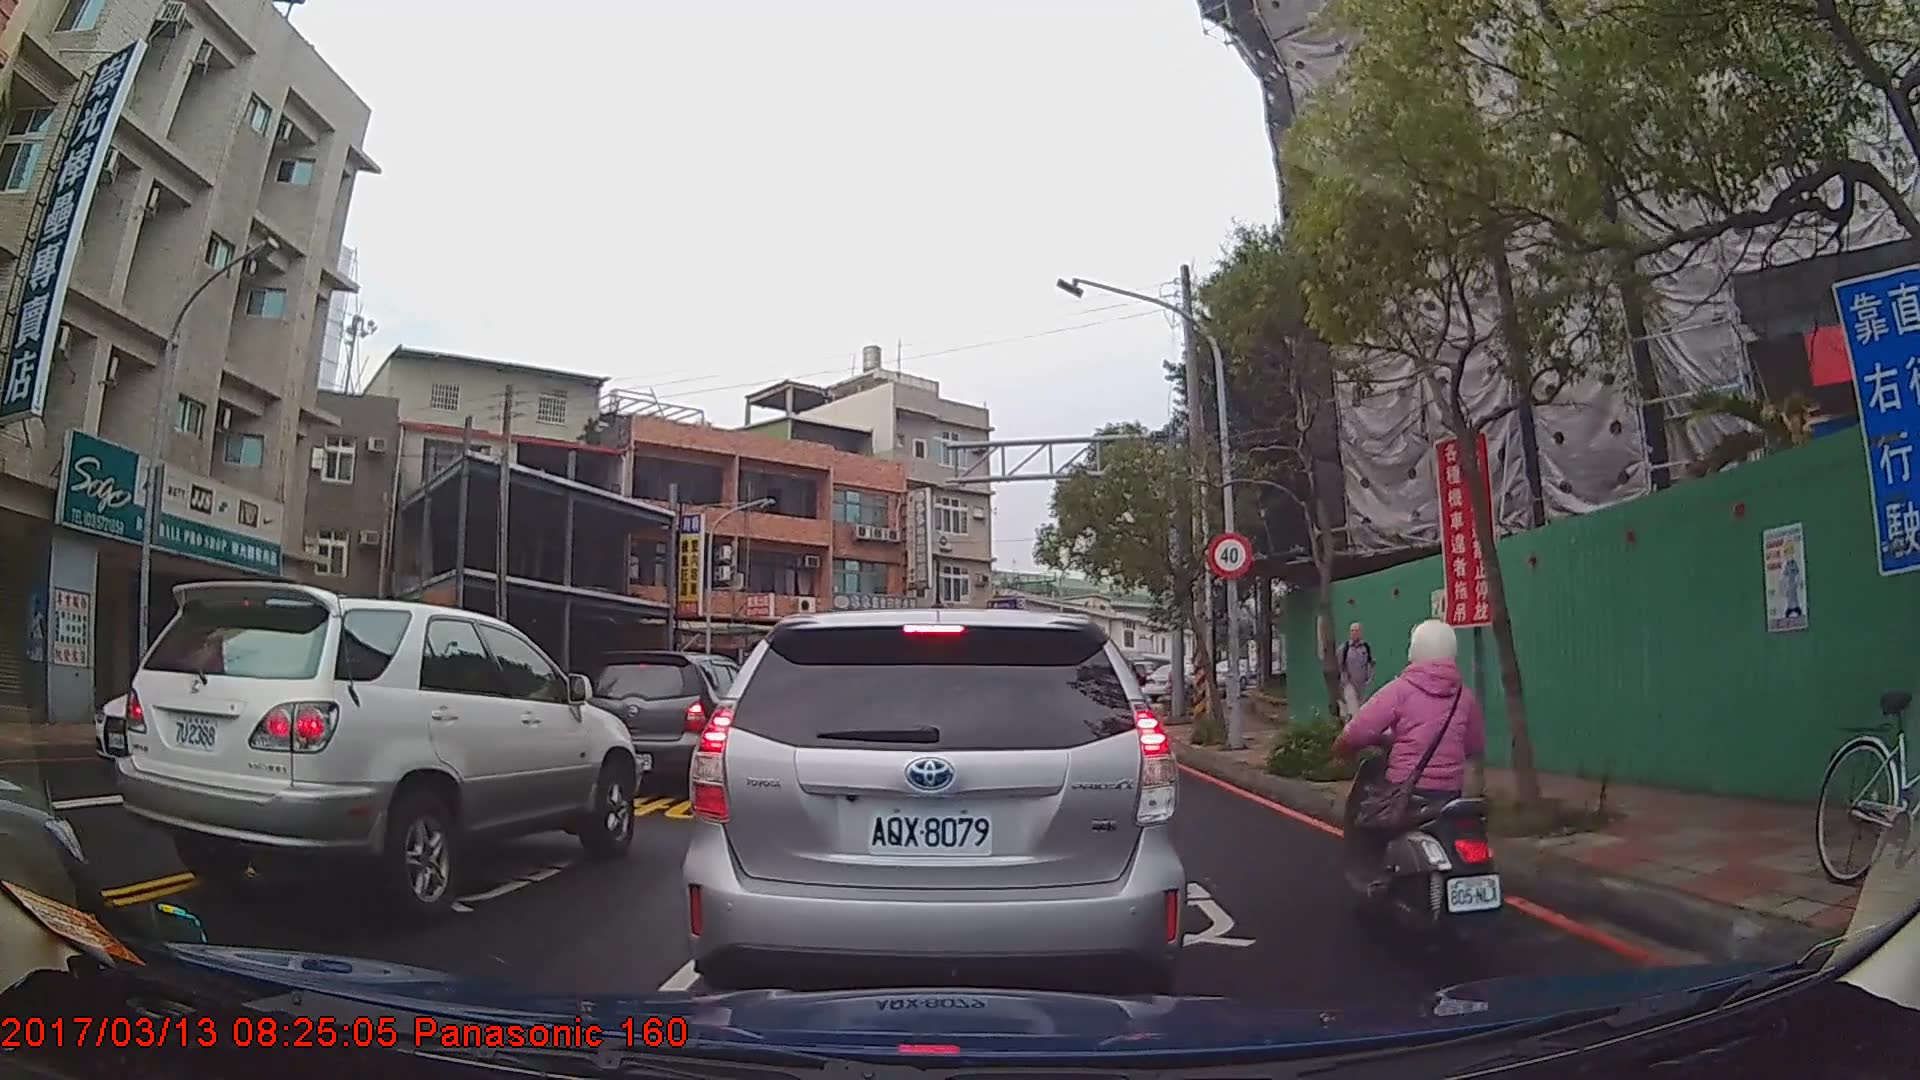rider: (1327, 616, 1508, 960)
vehicle: (679, 607, 1185, 1024), (118, 578, 643, 921), (583, 647, 767, 787)
